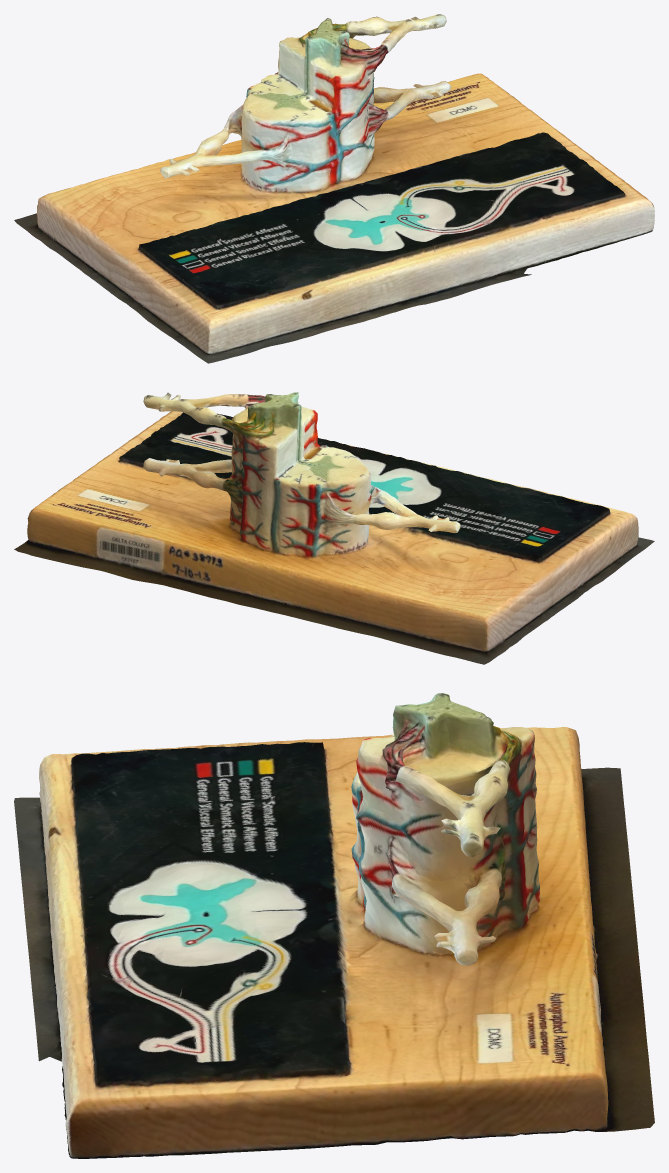
File: spinal-cord-model.glb
The picture shows the model from 3 angles, top to bottom: view 1: azimuth 30°, elevation 25°; view 2: azimuth 150°, elevation 25°; view 3: azimuth 270°, elevation 25°; orthographic projection. The views are drawn at different scales.
Parts seen in each view (by area): view 1: Object_4; view 2: Object_4; view 3: Object_4.
Boxes of the visible parts, x1,y1,x2,y2 form: Object_4: [14, 14, 654, 363]; Object_4: [14, 392, 654, 664]; Object_4: [14, 693, 654, 1158].
Bounding box in the file's own units: 0.3238 × 0.1158 × 0.2283.
Materials: 1 (1 with a texture image).
